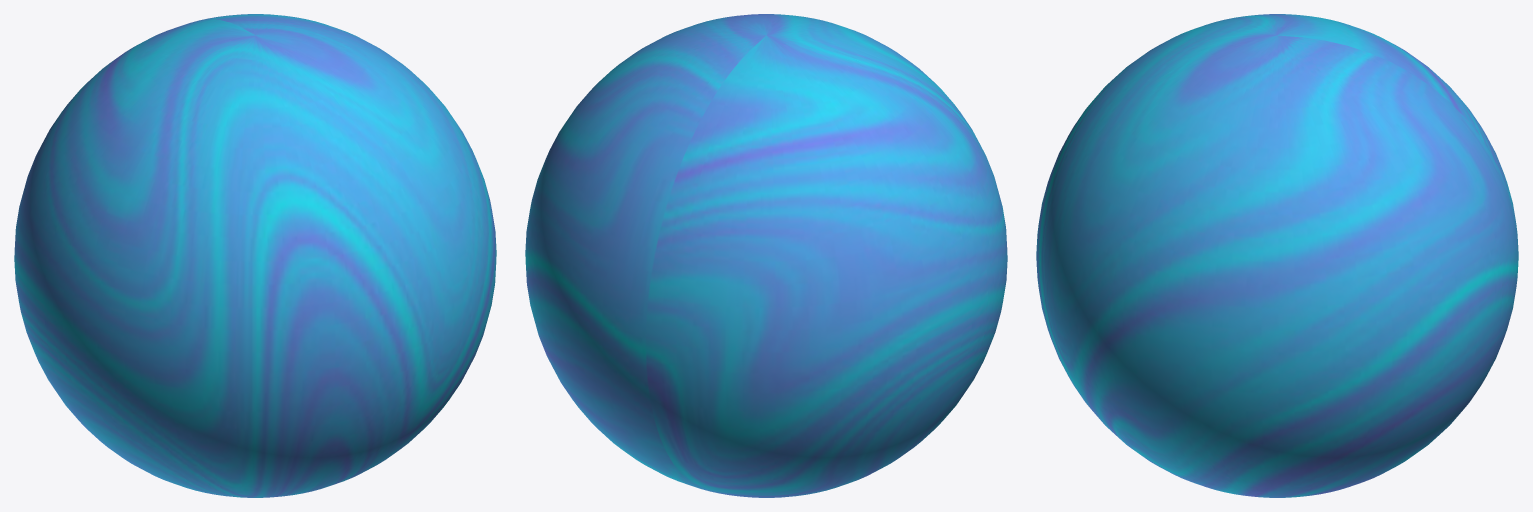
Rendered from CanicaP.obj.
The picture shows the model from 3 angles, left to right: view 1: azimuth 30°, elevation 25°; view 2: azimuth 150°, elevation 25°; view 3: azimuth 270°, elevation 25°; orthographic projection.
Visible parts, largest first — view 1: Sphere001; view 2: Sphere001; view 3: Sphere001.
Part boxes in pixels (x1,y1,x2,y2): Sphere001: (14, 14, 496, 497); Sphere001: (525, 14, 1007, 497); Sphere001: (1036, 14, 1518, 497).
Size of the model in its own units: 4.09 by 4.13 by 4.09.
